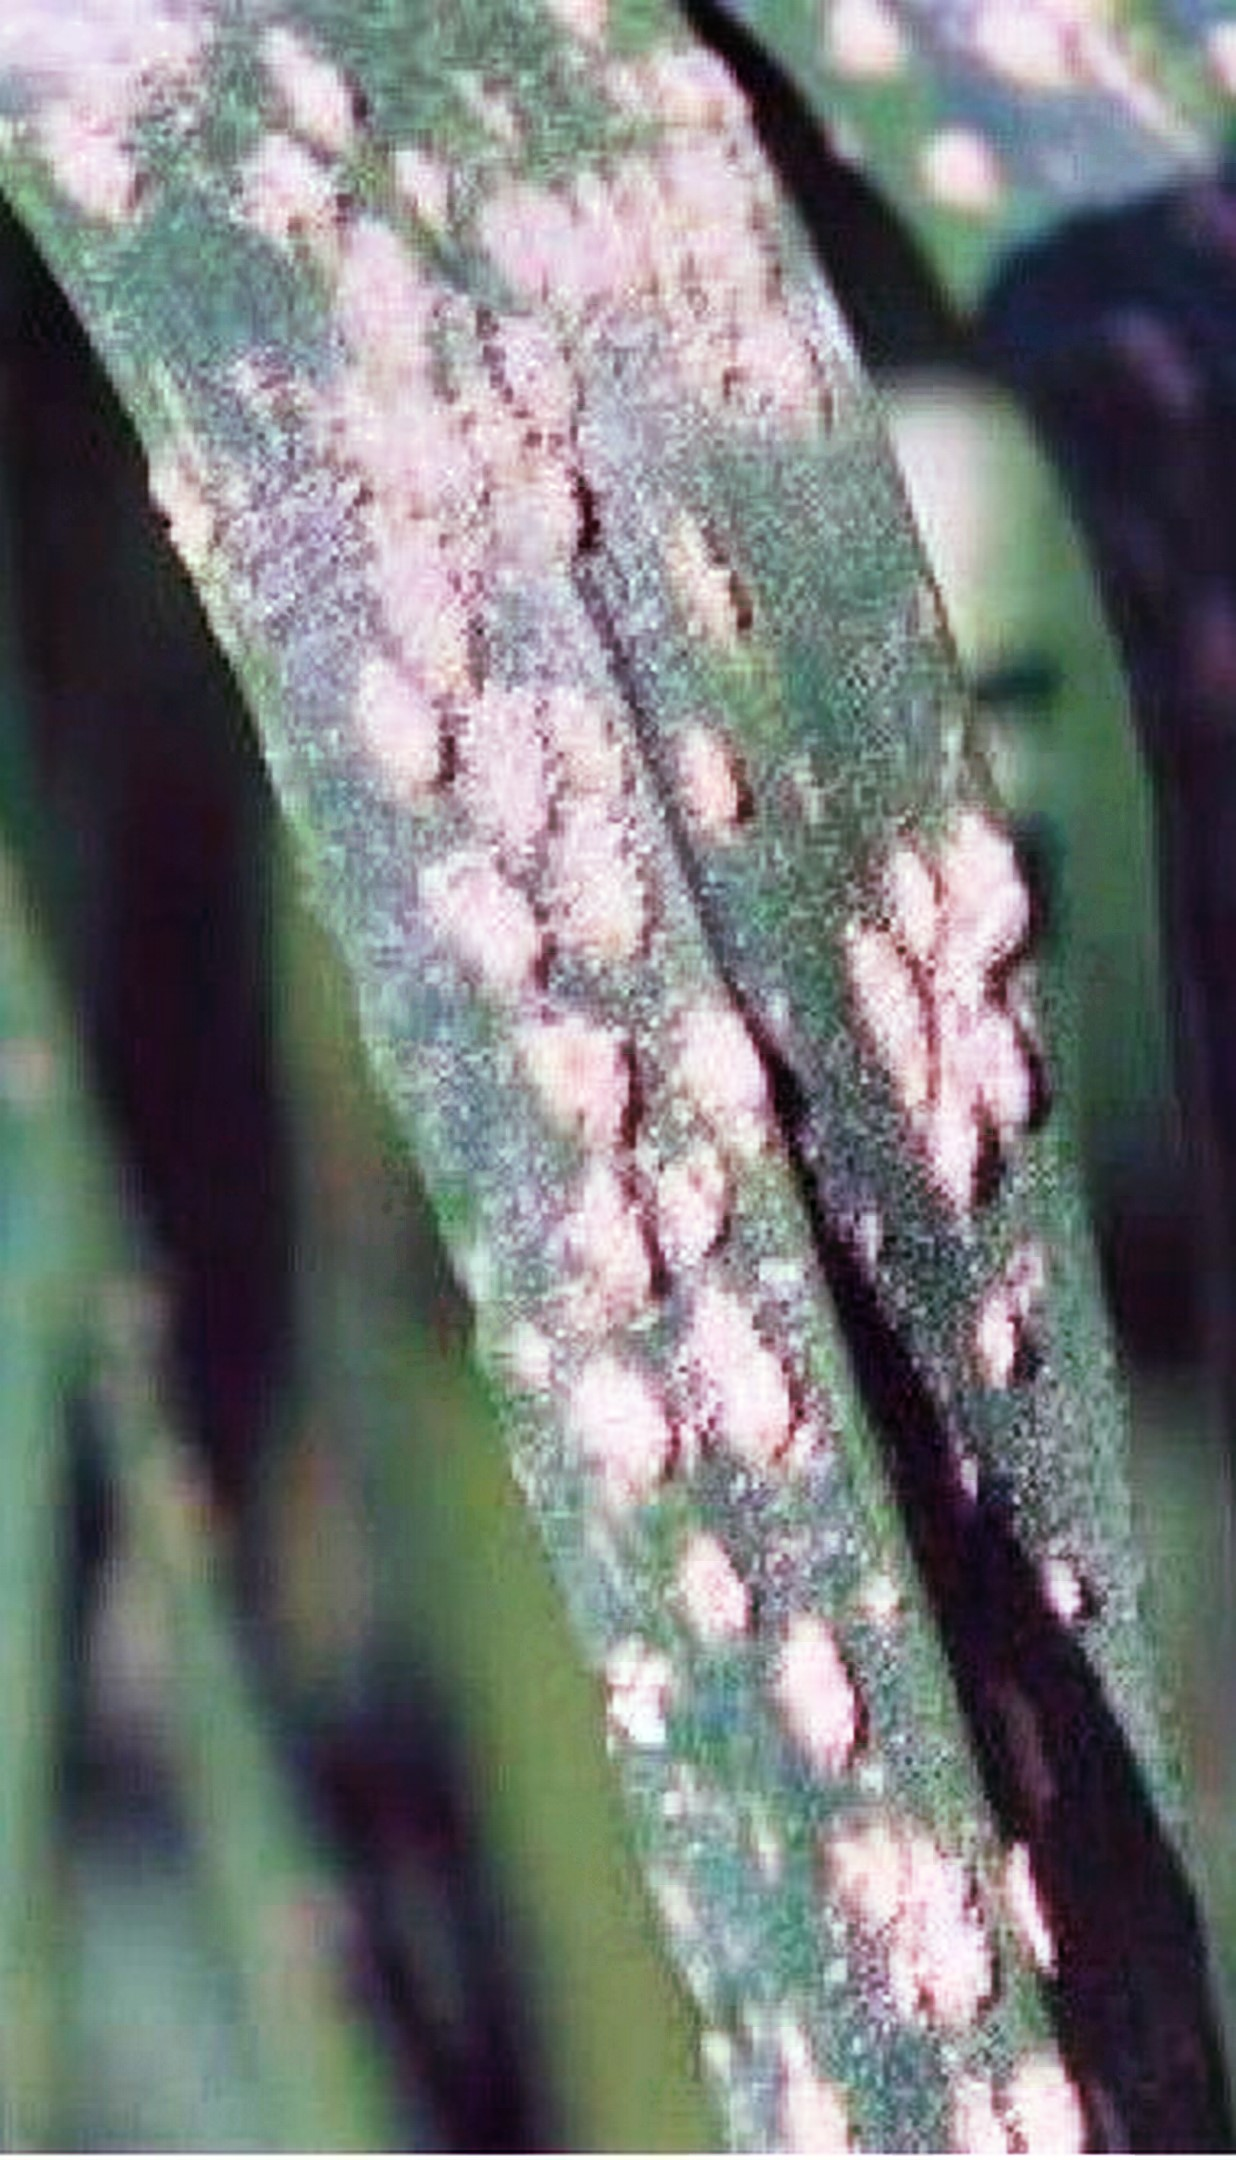Powdery Mildew: (233, 274, 1217, 2070)
